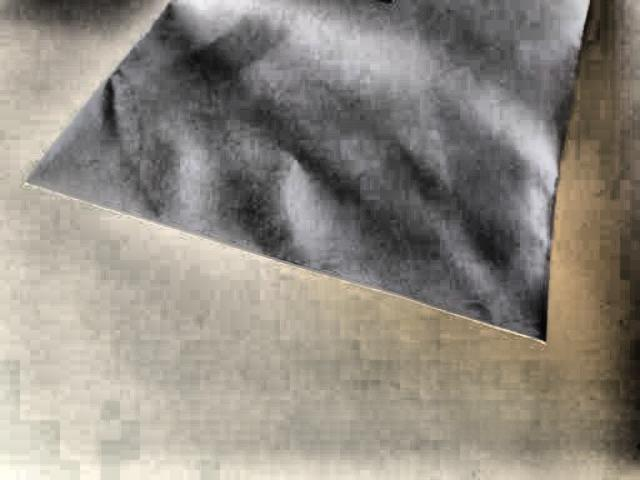Paper: (17, 2, 602, 463)
